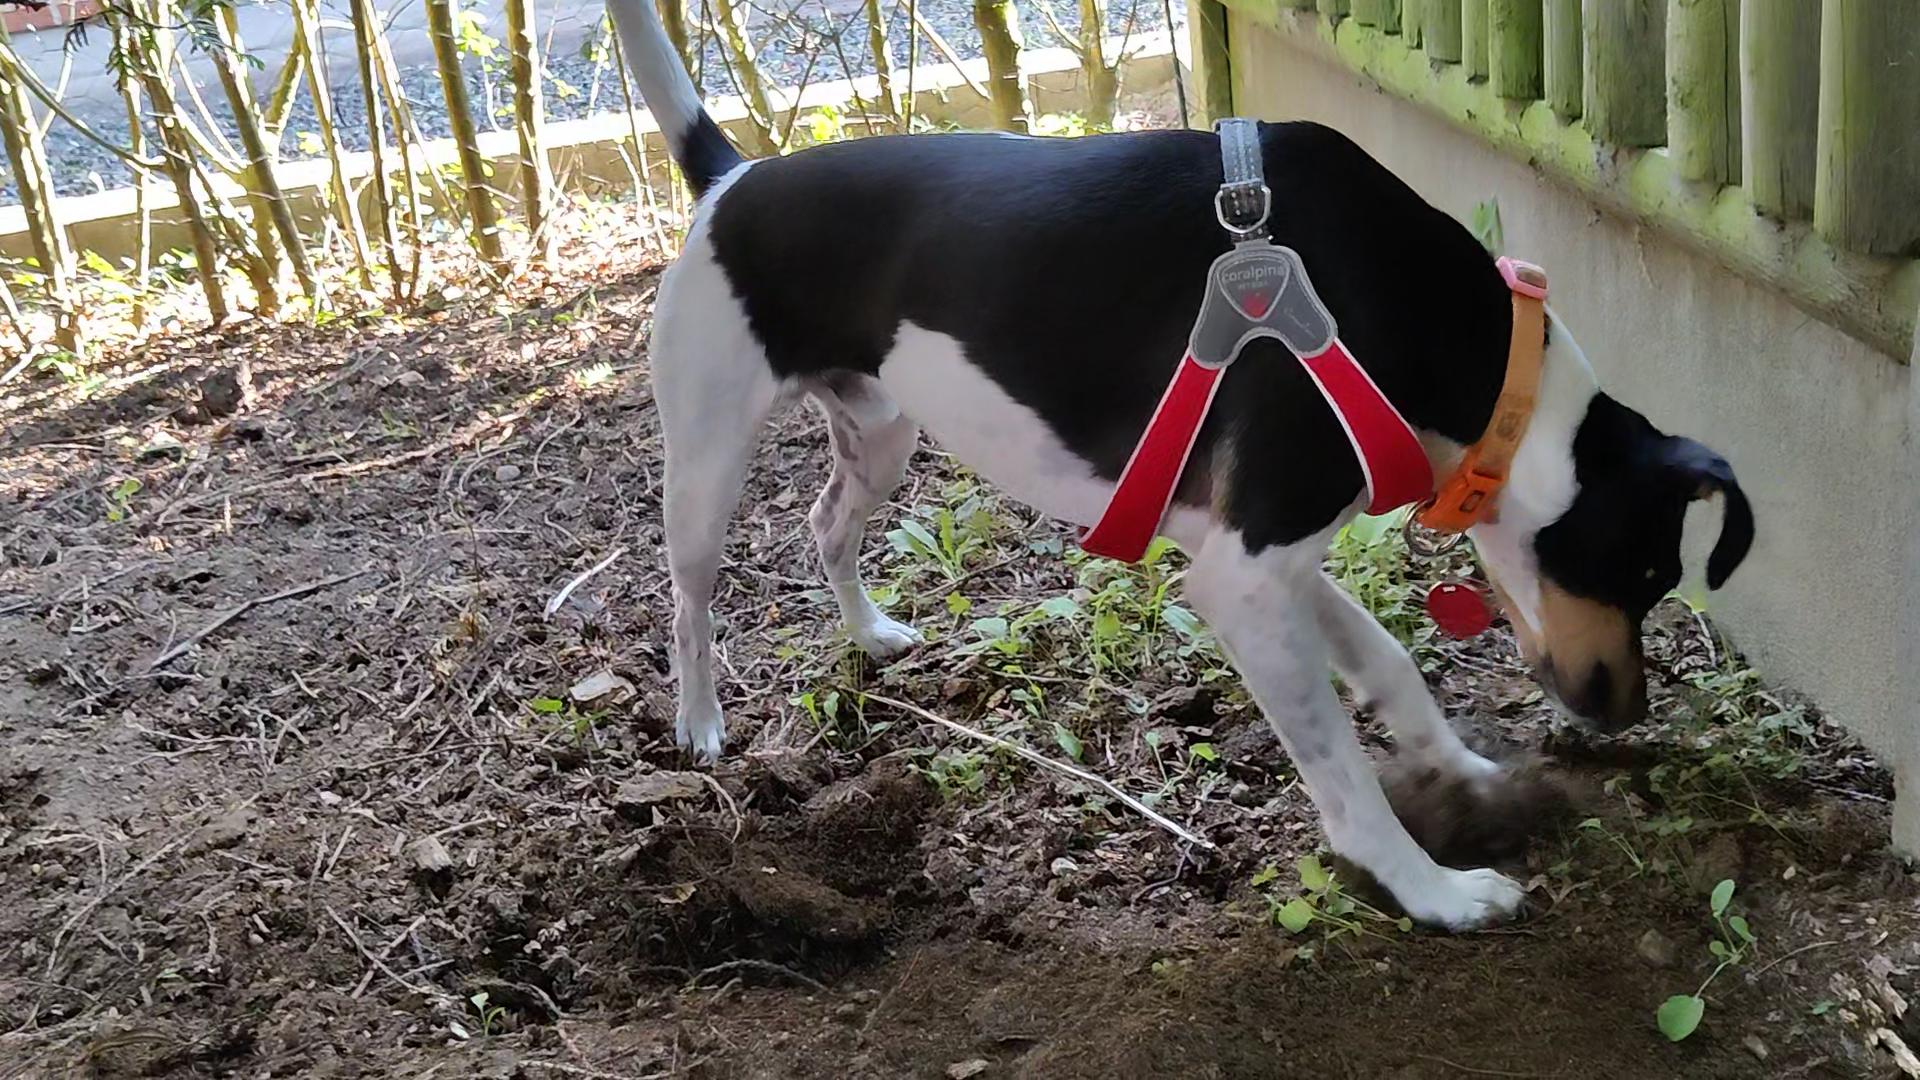Dog: (593, 0, 1763, 942)
